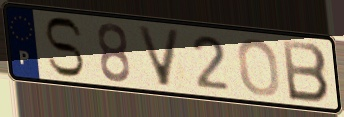2: (190, 34, 232, 93)
8: (95, 20, 132, 84)
B: (280, 38, 332, 106)
O: (235, 37, 282, 99)
S: (42, 15, 87, 79)
V: (134, 24, 184, 89)
